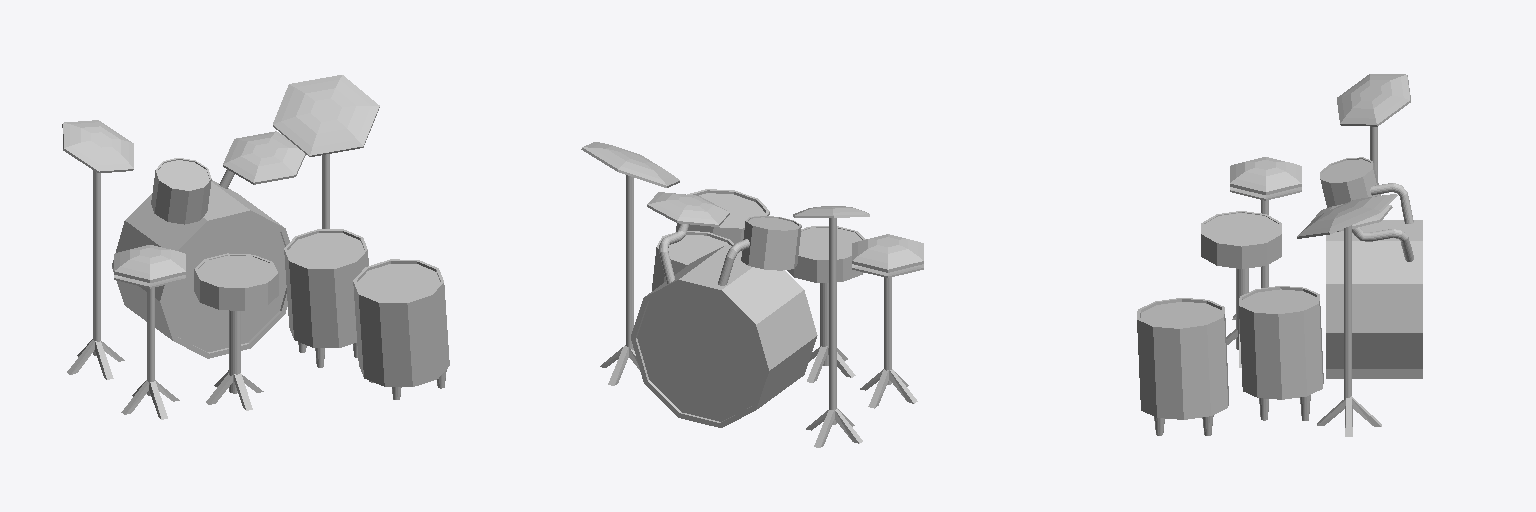
Rendered from DrumSet.obj.
3 views of the same model, side by side, from view 1: azimuth 30°, elevation 25°; view 2: azimuth 150°, elevation 25°; view 3: azimuth 270°, elevation 25° (orthographic).
Visible parts, largest first — view 1: Bass_Bass, pCylinder4_pCylinder4, Tom2_Tom2, pCylinder22_pCylinder22, pCylinder5_pCylinder5, Tom_Tom, pCylinder21_pCylinder21, pCylinder20_pCylinder20, pCylinder18_pCylinder18, pCylinder24_pCylinder24, pCylinder6_pCylinder6, pCylinder23_pCylinder23 (+1 smaller); view 2: Bass_Bass, Tom_Tom, pCylinder5_pCylinder5, pCylinder18_pCylinder18, pCylinder4_pCylinder4, pCylinder21_pCylinder21, pCylinder22_pCylinder22, Tom2_Tom2, pCylinder24_pCylinder24, pCylinder25_pCylinder25, pCylinder23_pCylinder23, pCylinder20_pCylinder20 (+2 smaller); view 3: Bass_Bass, pCylinder4_pCylinder4, Tom2_Tom2, pCylinder5_pCylinder5, pCylinder20_pCylinder20, Tom_Tom, pCylinder18_pCylinder18, pCylinder22_pCylinder22, pCylinder25_pCylinder25, pCylinder26_pCylinder26, pCylinder17_pCylinder17.
Part boxes in pixels (x1,y1,x2,y2): Bass_Bass: (112,180,289,358); pCylinder4_pCylinder4: (353,259,449,386); Tom2_Tom2: (284,229,368,347); pCylinder22_pCylinder22: (273,75,379,156); pCylinder5_pCylinder5: (194,253,278,310); Tom_Tom: (151,158,211,224); pCylinder21_pCylinder21: (223,131,305,184); pCylinder20_pCylinder20: (62,120,133,172); pCylinder18_pCylinder18: (114,245,185,282); pCylinder24_pCylinder24: (93,170,100,355); pCylinder6_pCylinder6: (229,310,240,393); pCylinder23_pCylinder23: (147,288,154,395); Bass_Bass: (631,245,817,427); Tom_Tom: (741,216,801,270); pCylinder5_pCylinder5: (787,226,865,282); pCylinder18_pCylinder18: (852,234,923,272); pCylinder4_pCylinder4: (676,189,769,243); pCylinder21_pCylinder21: (647,192,729,226); pCylinder22_pCylinder22: (581,142,679,187); Tom2_Tom2: (652,231,733,290); pCylinder24_pCylinder24: (829,218,836,424); pCylinder25_pCylinder25: (626,175,633,349); pCylinder23_pCylinder23: (884,277,891,384); pCylinder20_pCylinder20: (793,206,869,217); Bass_Bass: (1326,220,1422,378); pCylinder4_pCylinder4: (1137,298,1228,419); Tom2_Tom2: (1239,286,1323,399); pCylinder5_pCylinder5: (1201,211,1281,268); pCylinder20_pCylinder20: (1337,74,1410,126); Tom_Tom: (1320,157,1380,207); pCylinder18_pCylinder18: (1230,157,1301,194); pCylinder22_pCylinder22: (1297,194,1397,238); pCylinder25_pCylinder25: (1344,225,1351,399); pCylinder26_pCylinder26: (1352,227,1413,261); pCylinder17_pCylinder17: (1370,183,1413,223).
Bounding box in the file's own units: 11.62 × 8.84 × 9.68.